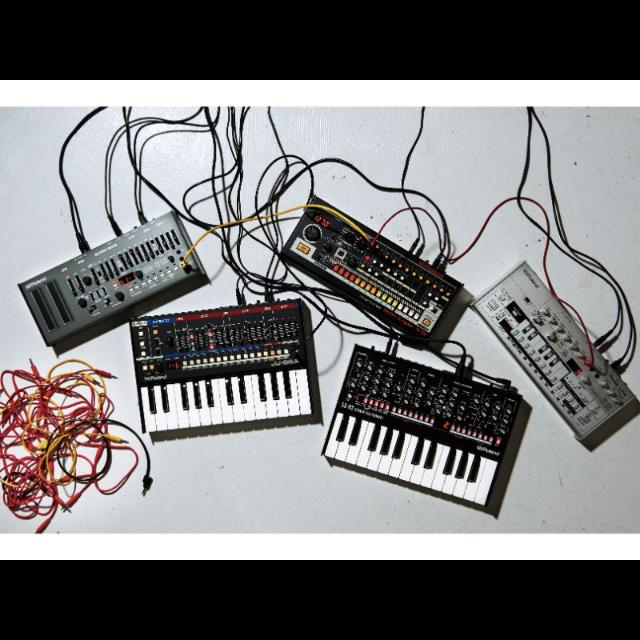Electronic-Keyboard: (325, 344, 519, 506), (125, 310, 311, 426)
